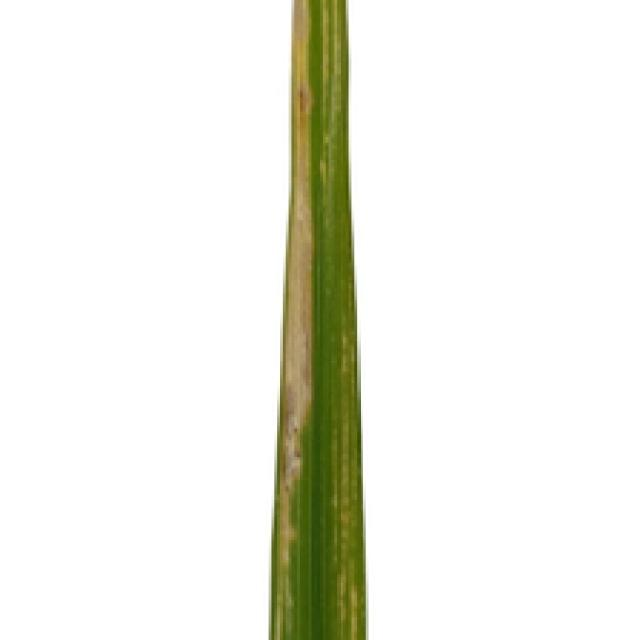Rice___Bacterial_Leaf_Blight: (267, 0, 370, 637)
